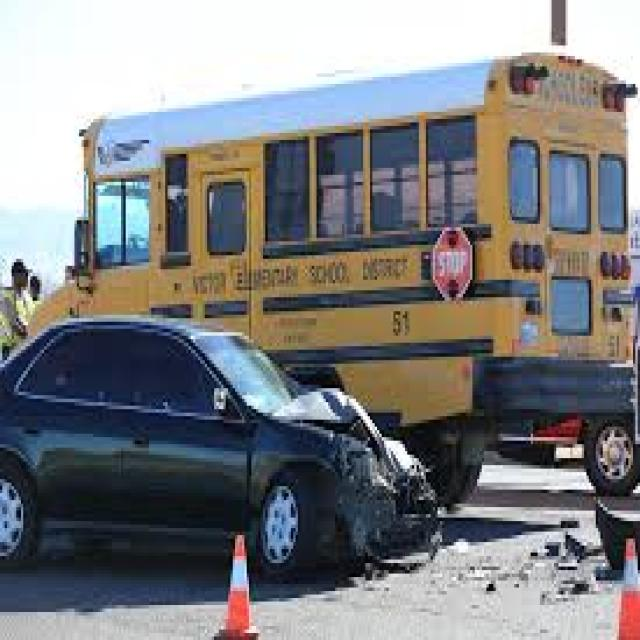Accident: (1, 46, 640, 578)
